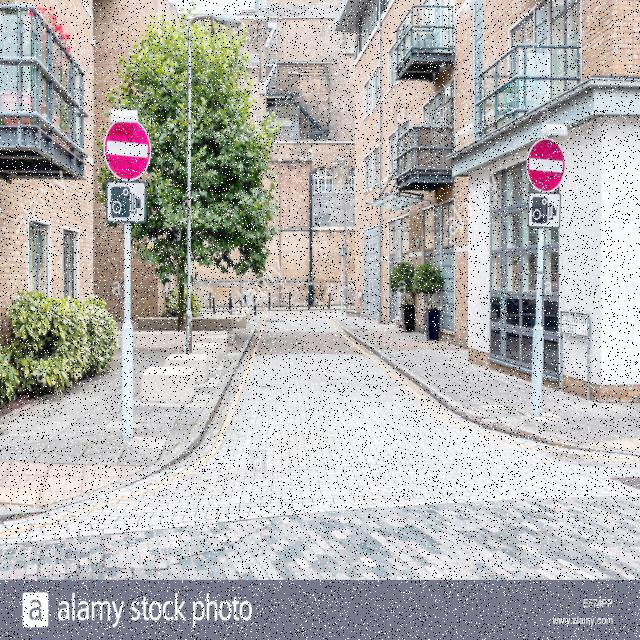no entry: (103, 119, 152, 182), (526, 138, 564, 192)
